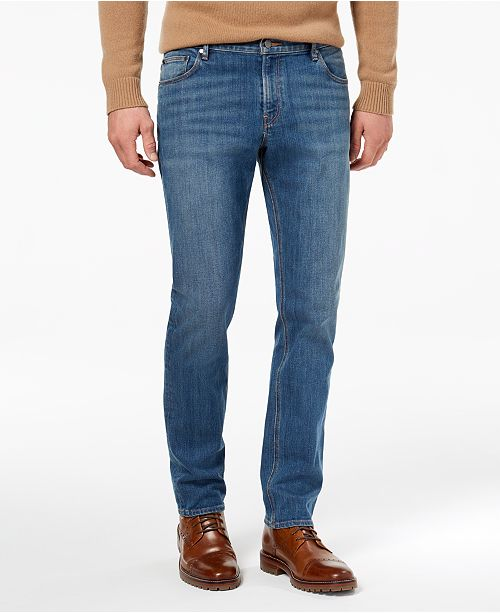Jeans: (145, 44, 359, 519)
